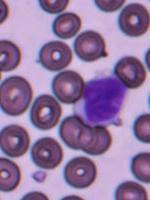M: (73, 73, 129, 127)
